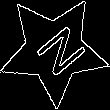N_SW: (23, 19, 85, 82)
